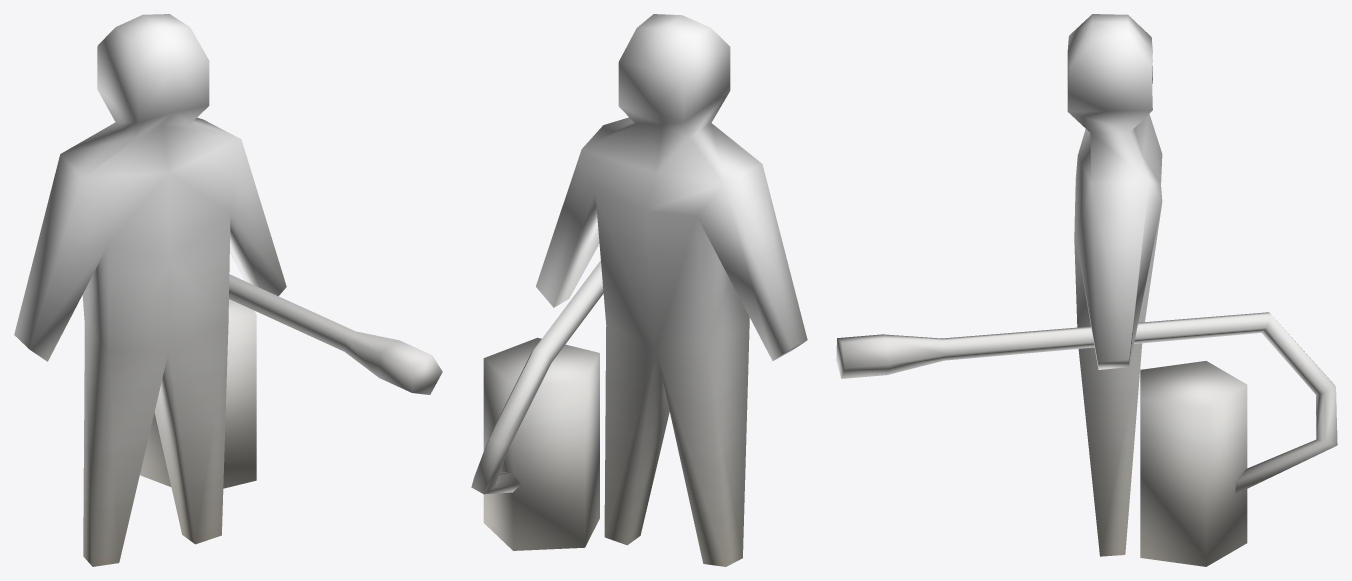
The model's file is SM_Blockout_Pesticids_Man_01.fbx.
3 renders of one model, left to right at view 1: azimuth 30°, elevation 25°; view 2: azimuth 150°, elevation 25°; view 3: azimuth 270°, elevation 25°, orthographic. The views are drawn at different scales.
Parts seen in each view (by area): view 1: SM_Blockout_Pesticids_Man_01; view 2: SM_Blockout_Pesticids_Man_01; view 3: SM_Blockout_Pesticids_Man_01.
Part boxes in pixels (x1=…): SM_Blockout_Pesticids_Man_01: x1=14, y1=14, x2=442, y2=566; SM_Blockout_Pesticids_Man_01: x1=471, y1=14, x2=807, y2=566; SM_Blockout_Pesticids_Man_01: x1=836, y1=14, x2=1337, y2=566.
Size of the model in its own units: 0.4511 by 0.8096 by 0.7253.
